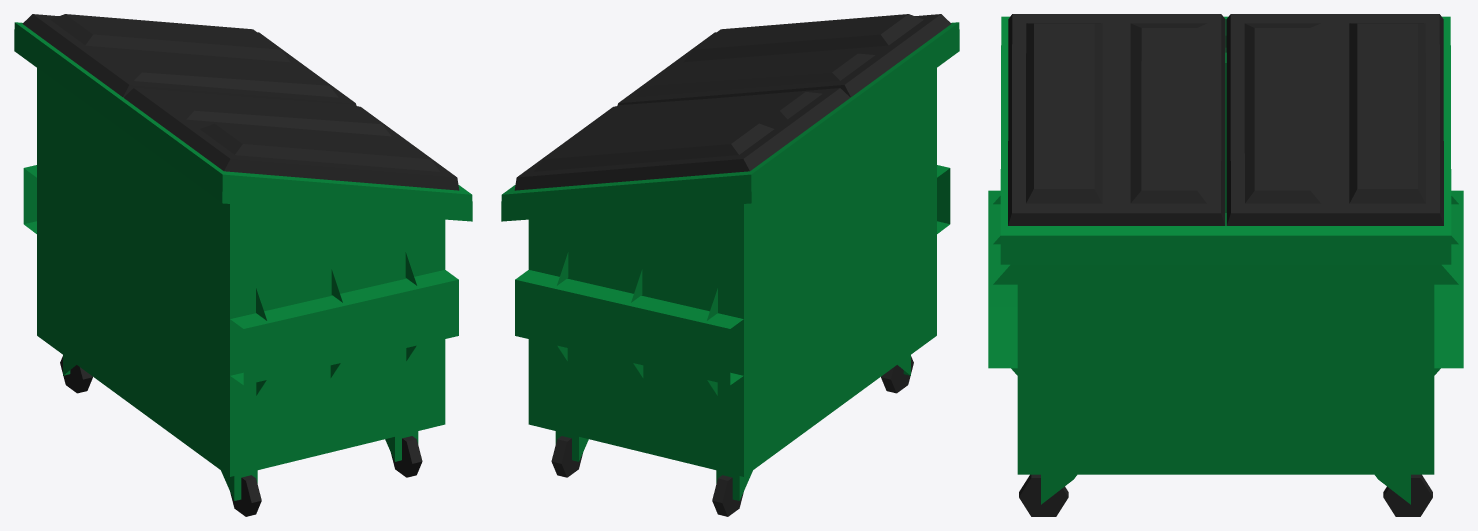
File: garbage.glb
3 views of the same model, side by side, from view 1: azimuth 30°, elevation 25°; view 2: azimuth 150°, elevation 25°; view 3: azimuth 270°, elevation 25° (orthographic). The views are drawn at different scales.
Parts seen in each view (by area): view 1: Cube; view 2: Cube; view 3: Cube.
Part boxes in pixels (left/top/right/bottom): Cube: left=14, top=14, right=472, bottom=516; Cube: left=501, top=14, right=959, bottom=516; Cube: left=988, top=14, right=1463, bottom=516.
Bounding box in the file's own units: 18.41 × 26.21 × 28.06.
